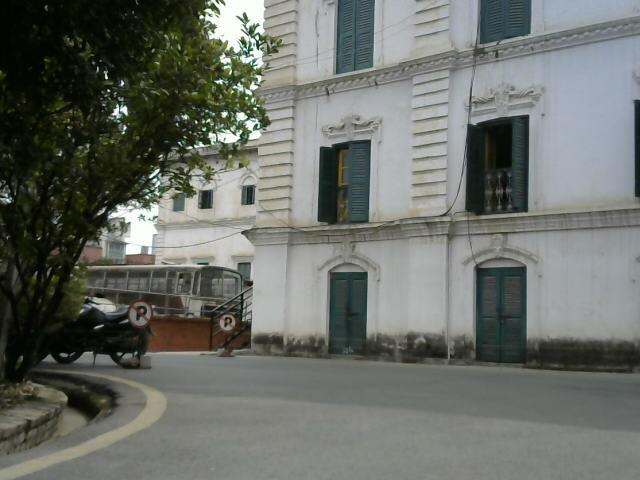Building: (259, 3, 640, 357)
Road: (89, 359, 640, 480), (279, 215, 282, 217)
Traffic sign: (123, 294, 175, 371), (221, 310, 240, 353)
Tree: (3, 1, 239, 246)
